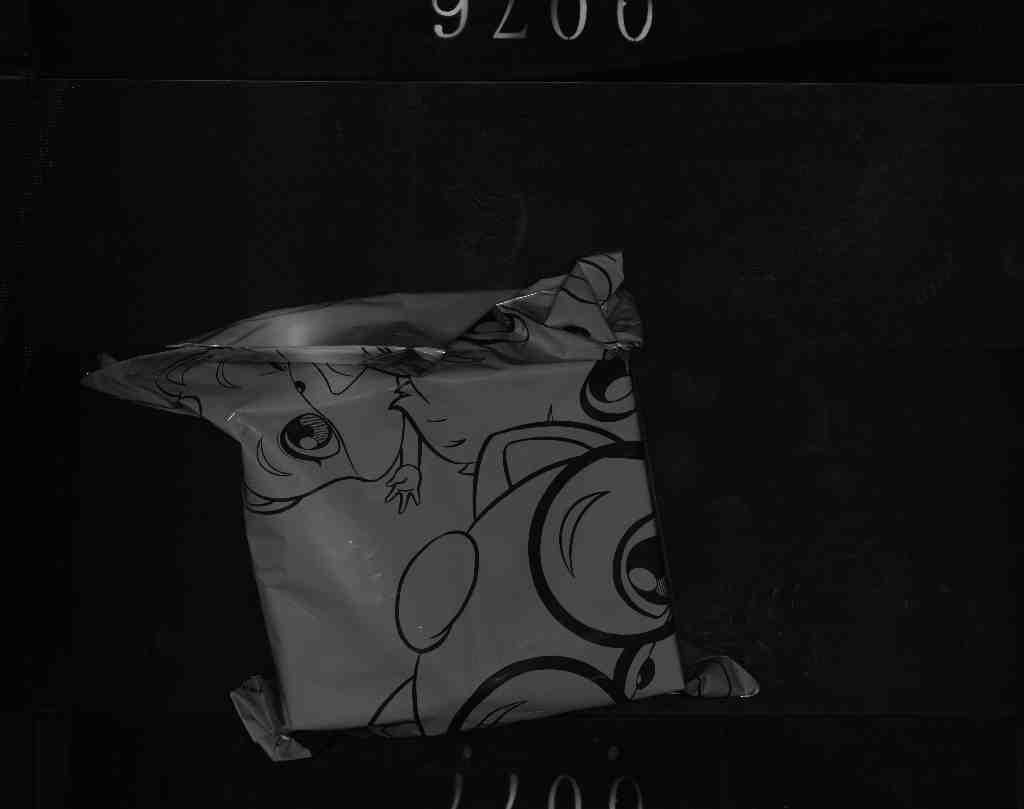box: (151, 258, 748, 753)
